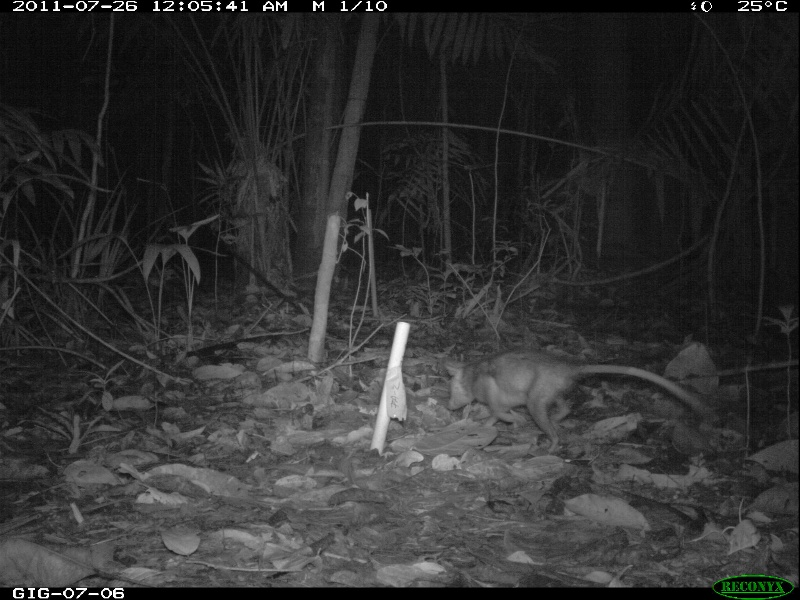opossum: (441, 352, 705, 456)
